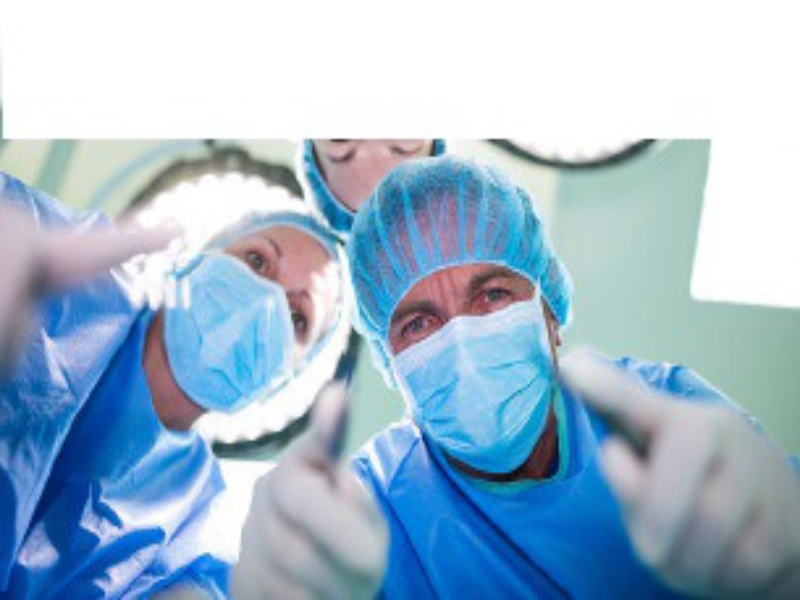mask: (353, 162, 573, 461), (161, 195, 349, 434)
